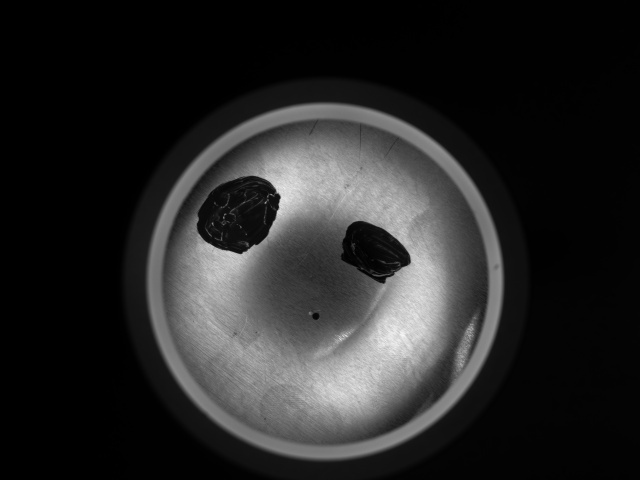zang_wu: (197, 176, 282, 255), (339, 219, 415, 286)
zhen_kong: (306, 309, 322, 322)
